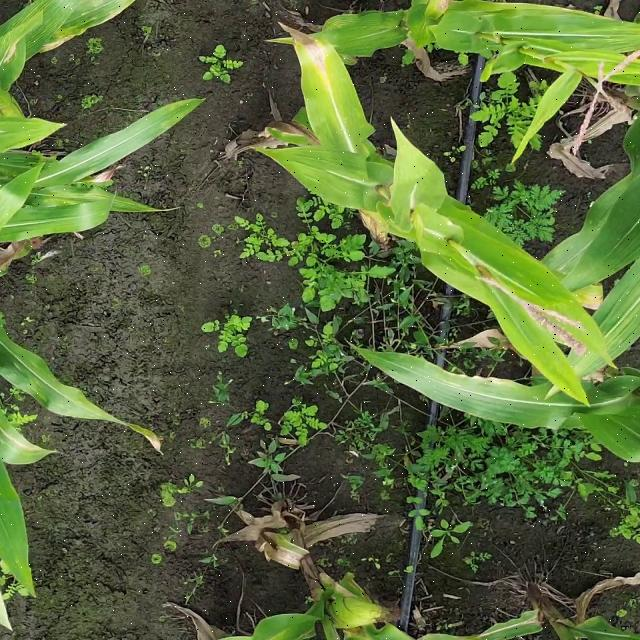gray-leaf-spot: (7, 136, 168, 234), (8, 343, 127, 453), (15, 0, 136, 70)
northern-leaf-blight: (276, 17, 374, 131), (545, 189, 631, 274)
